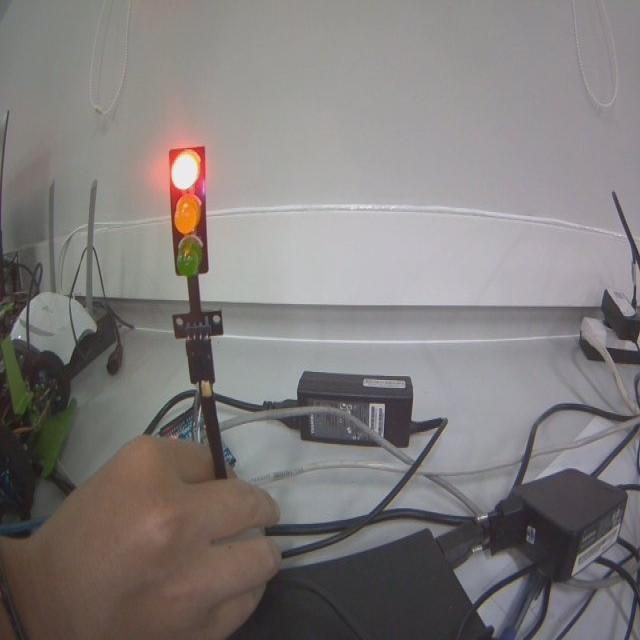Lampu Merah: (166, 144, 209, 283)
